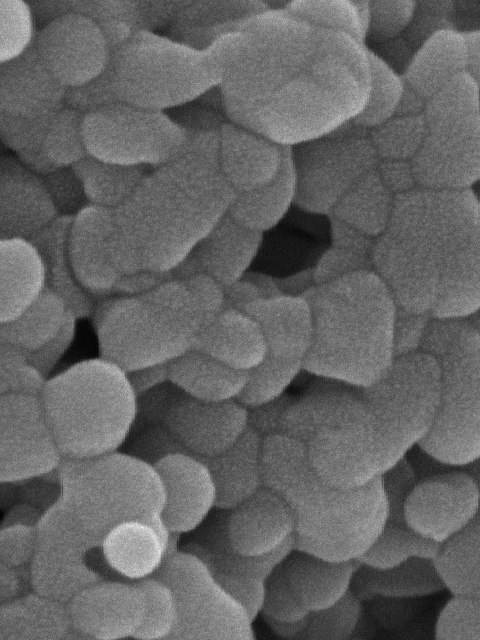nano: (33, 356, 144, 462), (103, 514, 162, 583), (1, 1, 33, 58)
